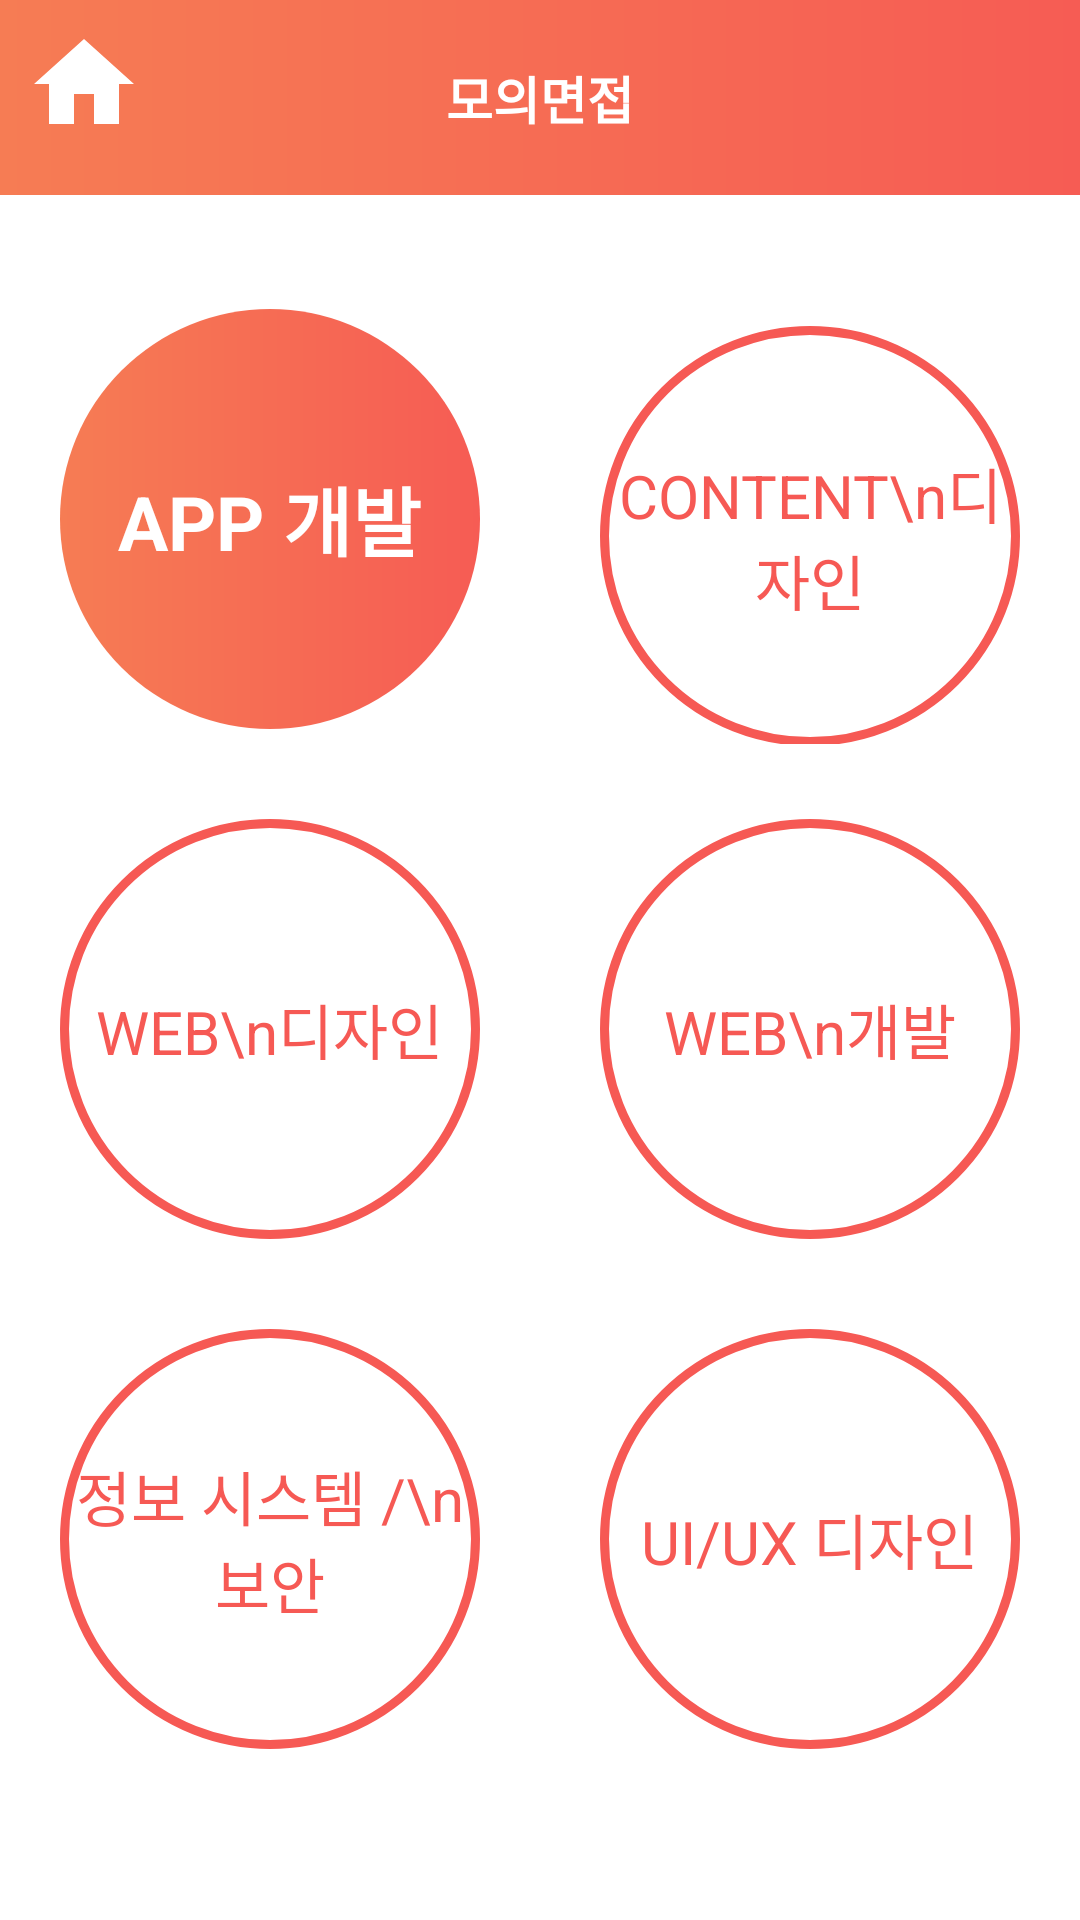

Named icons in this screenshot (1080×1920) and their bounding boxes, (x1, y1, x2, y2):
home: (34, 39, 134, 124)
